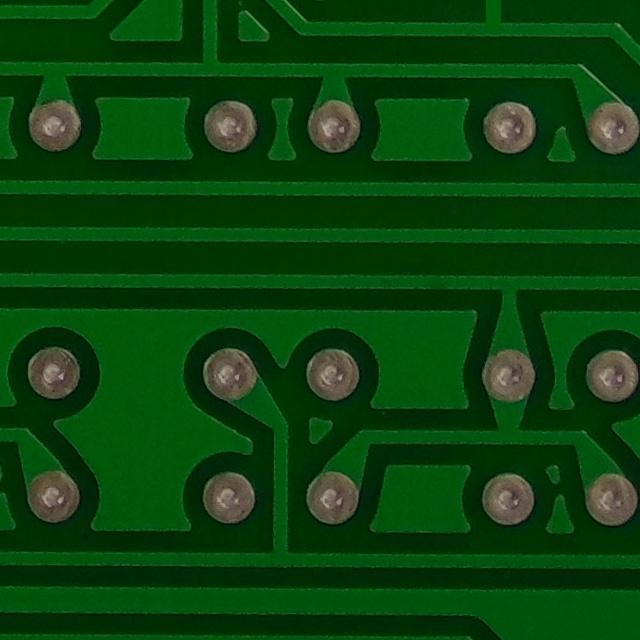short: (460, 0, 520, 50)
